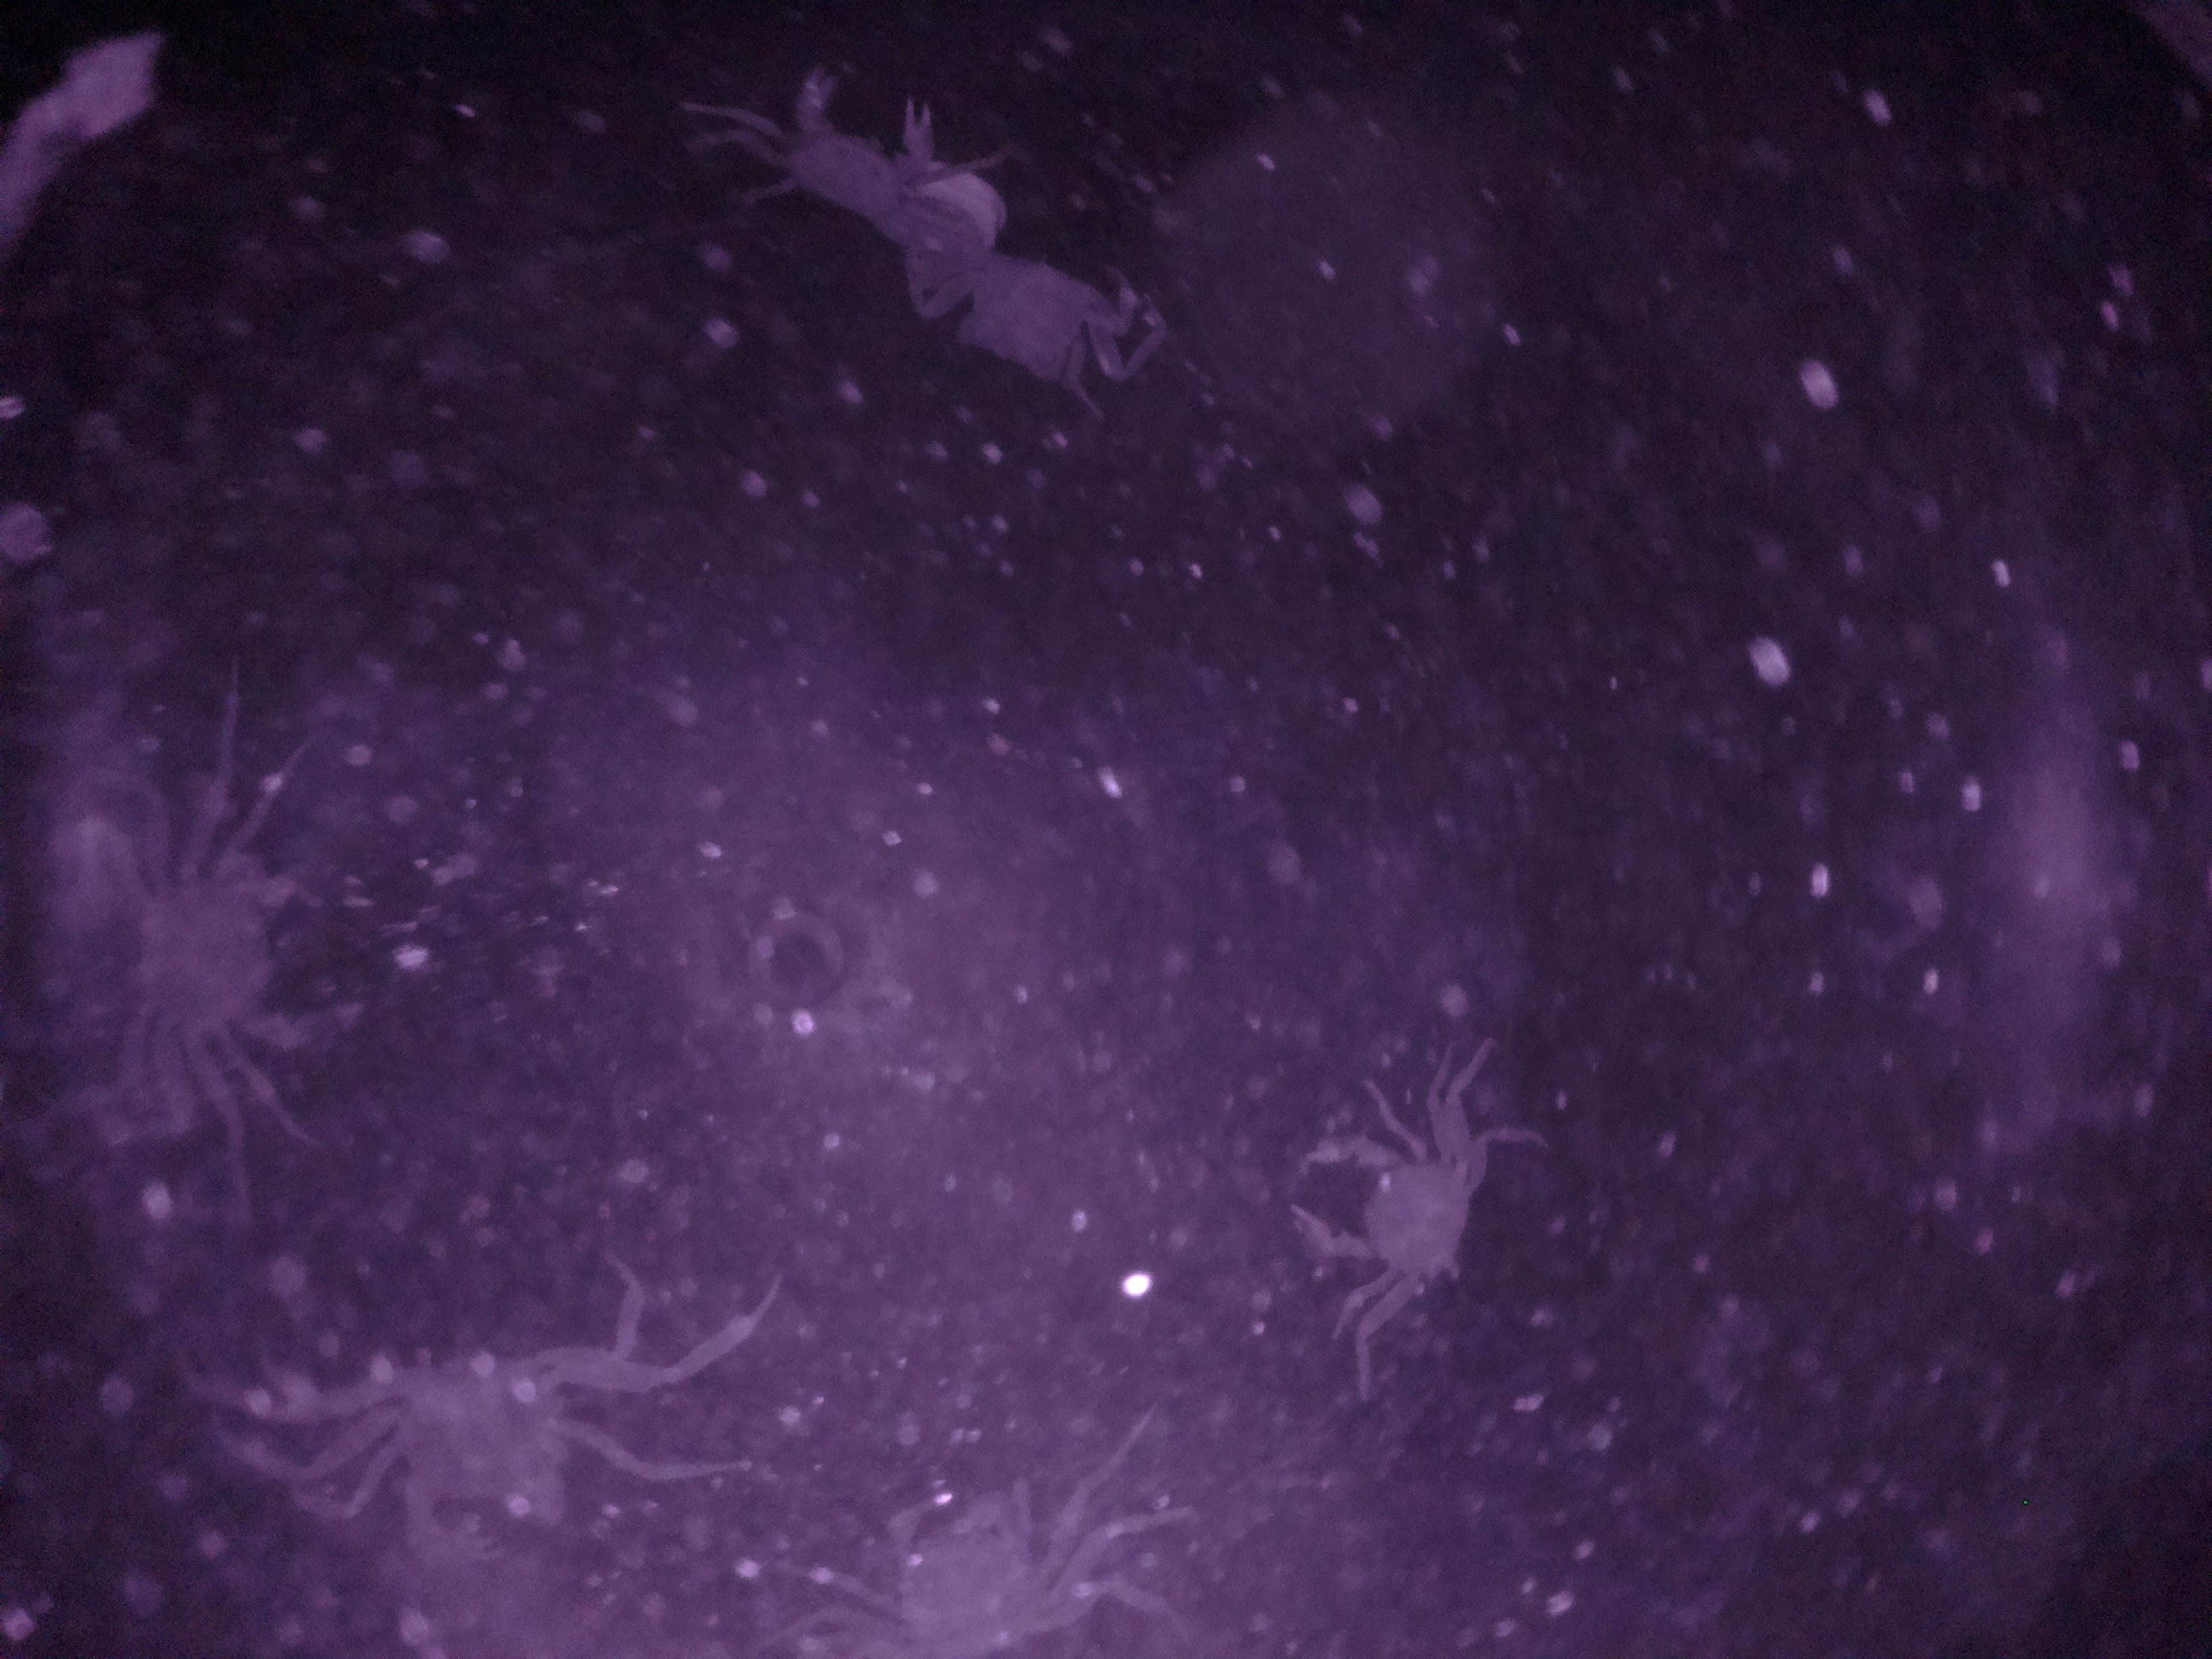Crab: (1270, 1082, 1512, 1310)
